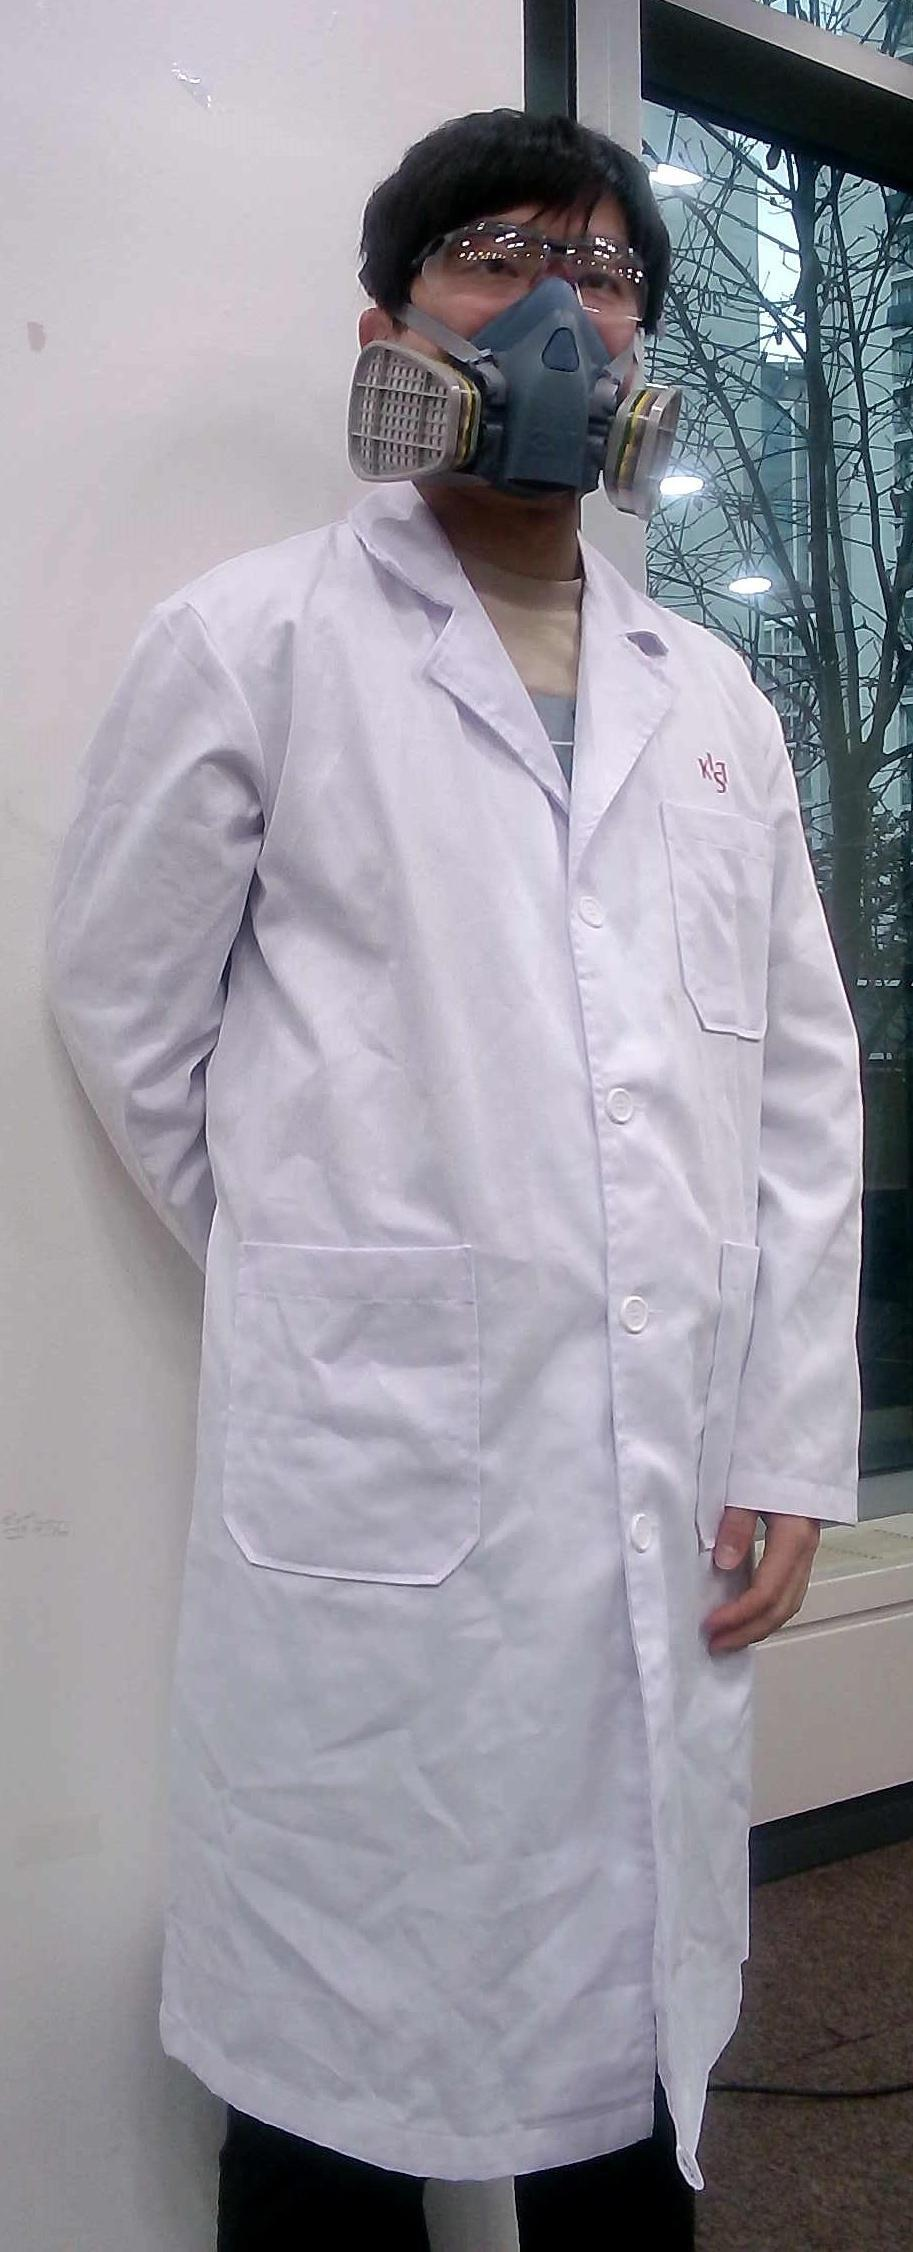lab_coat: (46, 576, 893, 2114)
